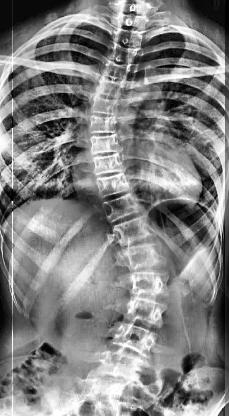Vertebrae: (112, 216, 164, 248), (119, 300, 173, 328), (122, 244, 172, 272), (128, 268, 176, 296), (98, 194, 146, 222), (94, 353, 144, 377), (110, 325, 158, 349), (92, 172, 134, 198), (84, 152, 128, 176), (86, 131, 128, 155), (82, 113, 124, 135), (108, 28, 146, 50), (106, 46, 142, 66), (99, 63, 133, 82), (88, 98, 128, 114), (92, 80, 128, 94)
